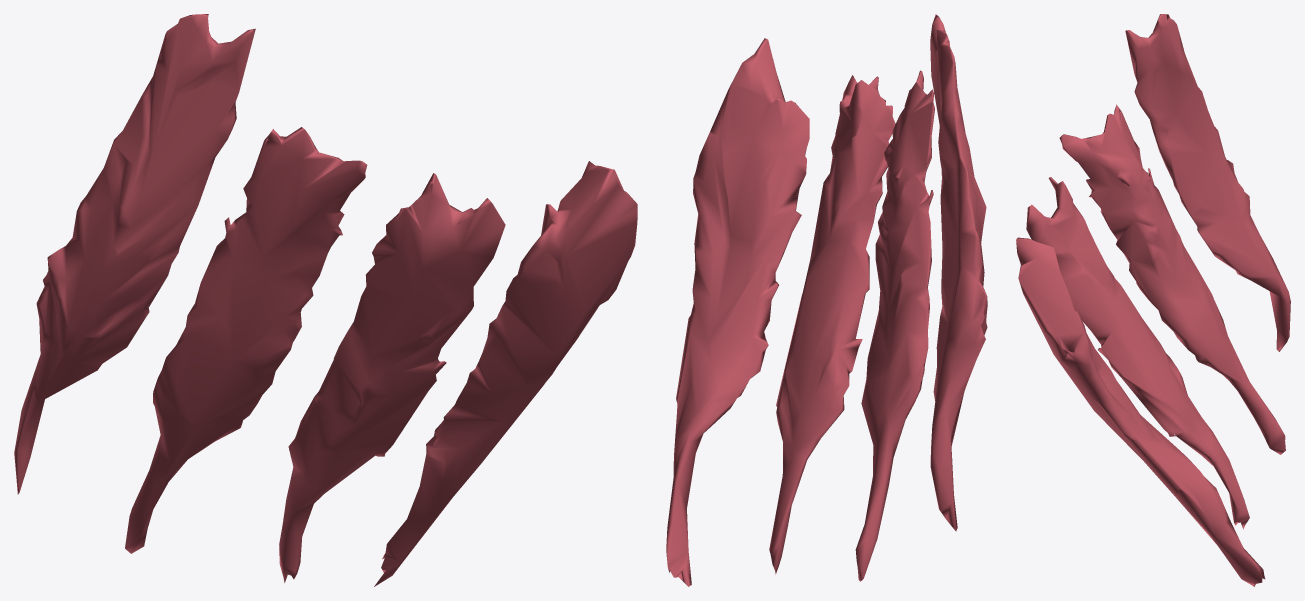
3 views of the same model, side by side, from view 1: azimuth 30°, elevation 25°; view 2: azimuth 150°, elevation 25°; view 3: azimuth 270°, elevation 25° (orthographic). The views are drawn at different scales.
Visible parts, largest first — view 1: 右侧足骨间背侧肌; view 2: 右侧足骨间背侧肌; view 3: 右侧足骨间背侧肌.
Part boxes in pixels (x1,y1,x2,y2): 右侧足骨间背侧肌: [14, 14, 637, 586]; 右侧足骨间背侧肌: [666, 14, 987, 586]; 右侧足骨间背侧肌: [1016, 14, 1290, 586].
Size of the model in its own units: 0.0756 by 0.1064 by 0.0543.
